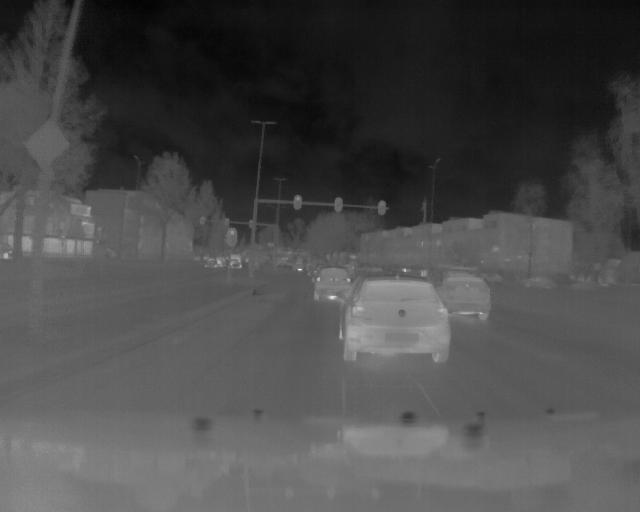car: (342, 276, 452, 367), (440, 275, 494, 320), (313, 265, 350, 300), (520, 272, 556, 290), (205, 255, 227, 270)
